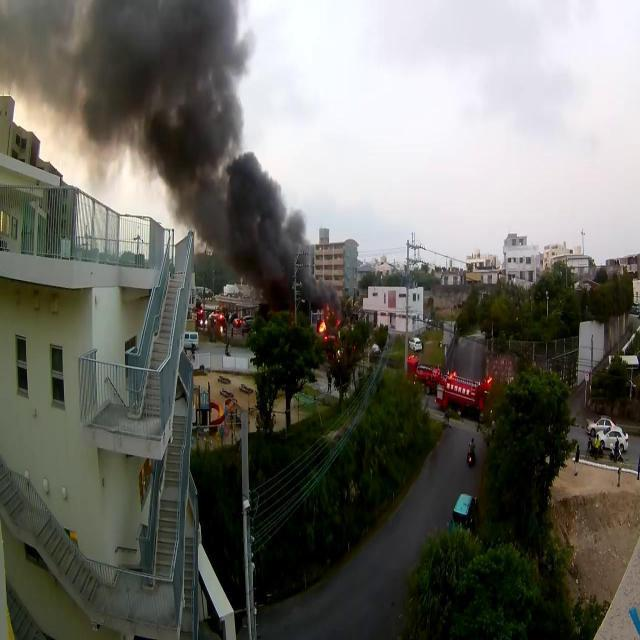Fire: (318, 320, 328, 332)
